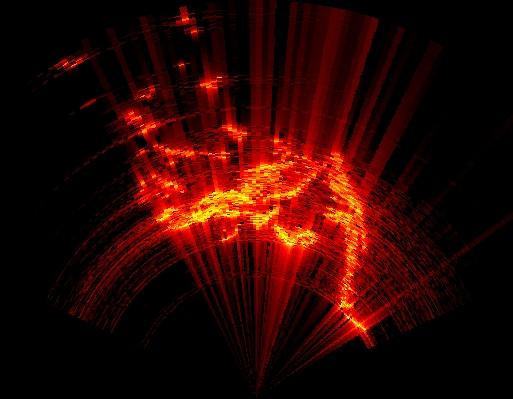shipwreck: (171, 158, 320, 245), (124, 106, 234, 198), (322, 195, 365, 331), (214, 124, 247, 153), (199, 75, 227, 98), (328, 169, 348, 198)
